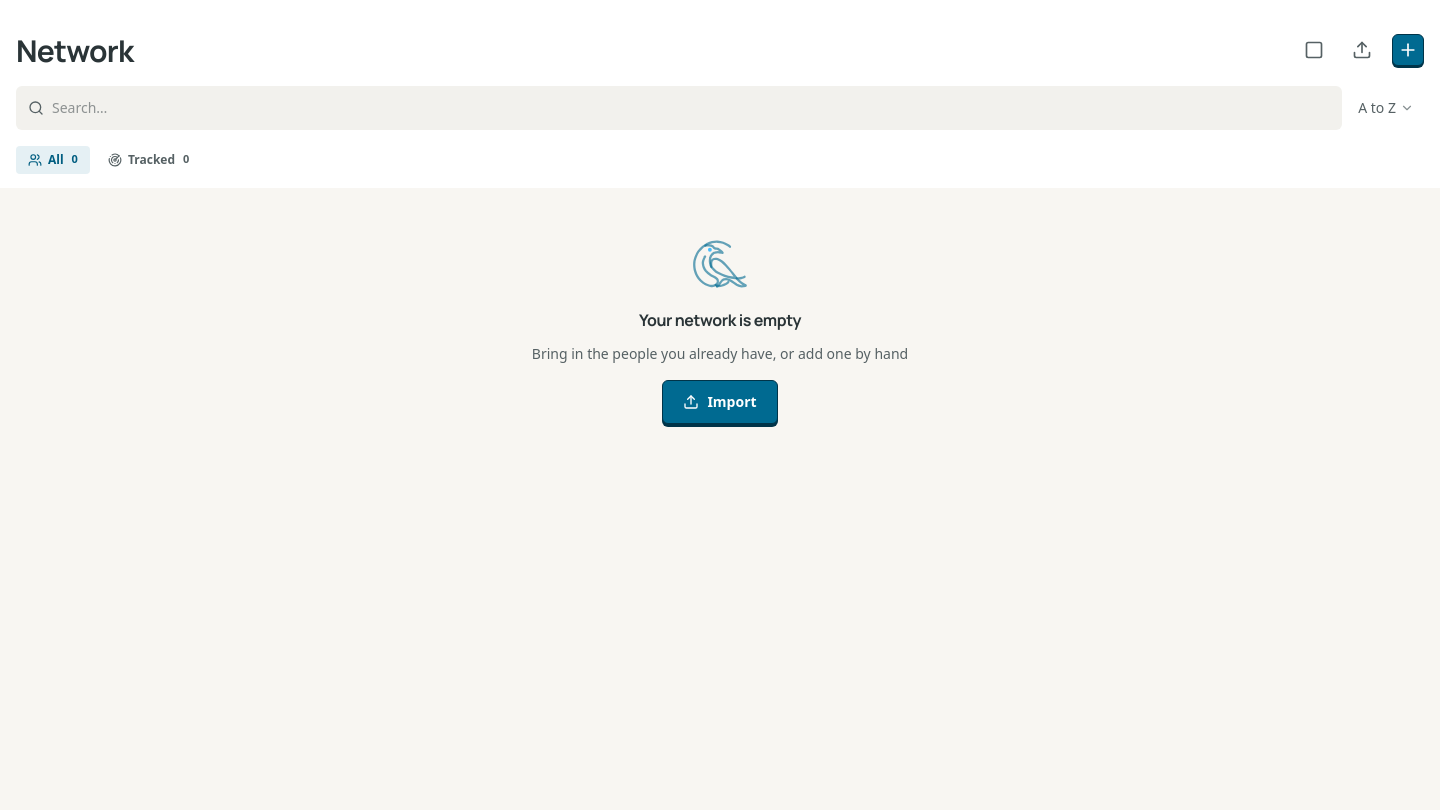
Add from text › opens from the menu or the V key, and closing with X or Escape restores focus
Click the button named "New".
click(1408, 50)  # box [1392, 34, 1424, 66]
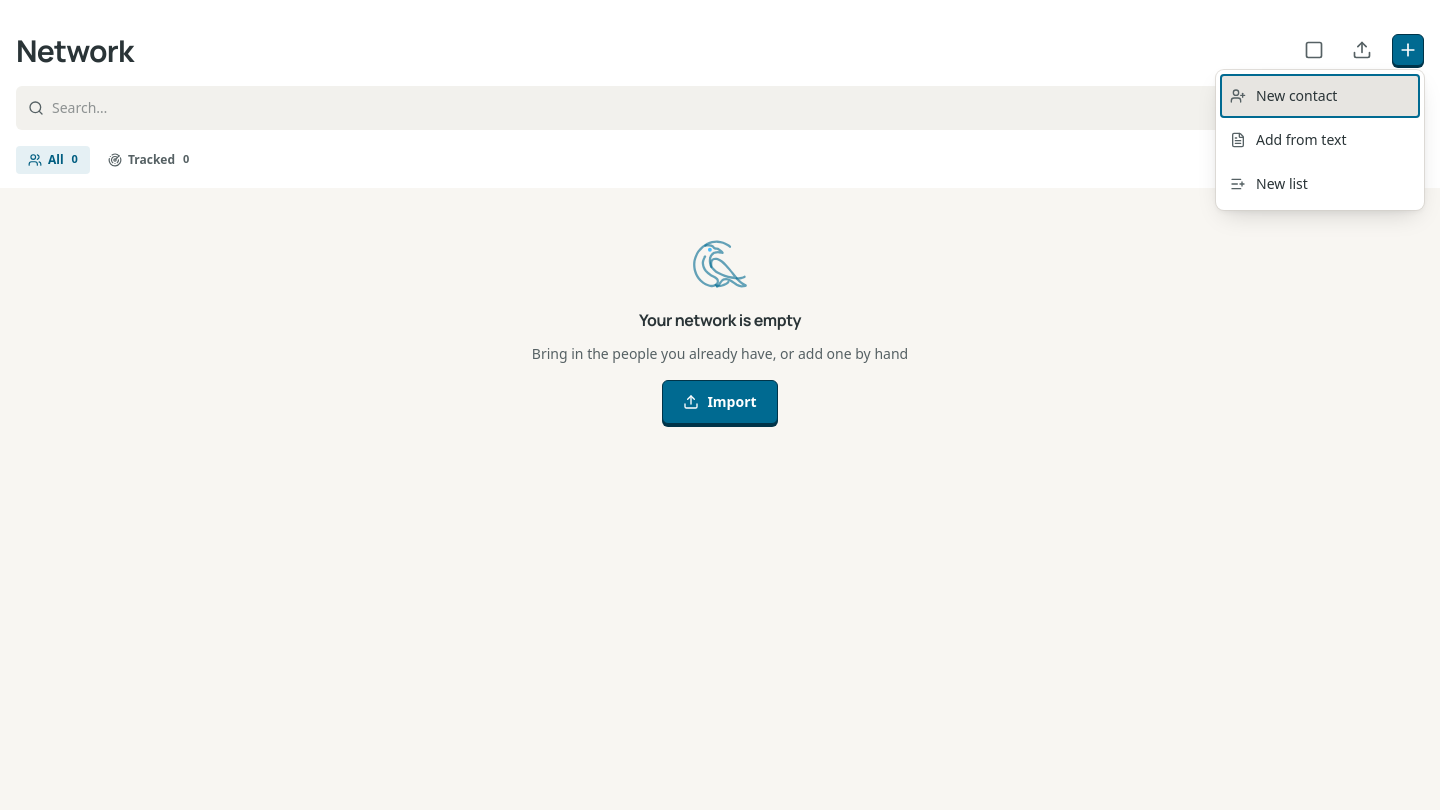
Click the menu item "Add from text".
click(1320, 140)  # box [1220, 118, 1420, 162]
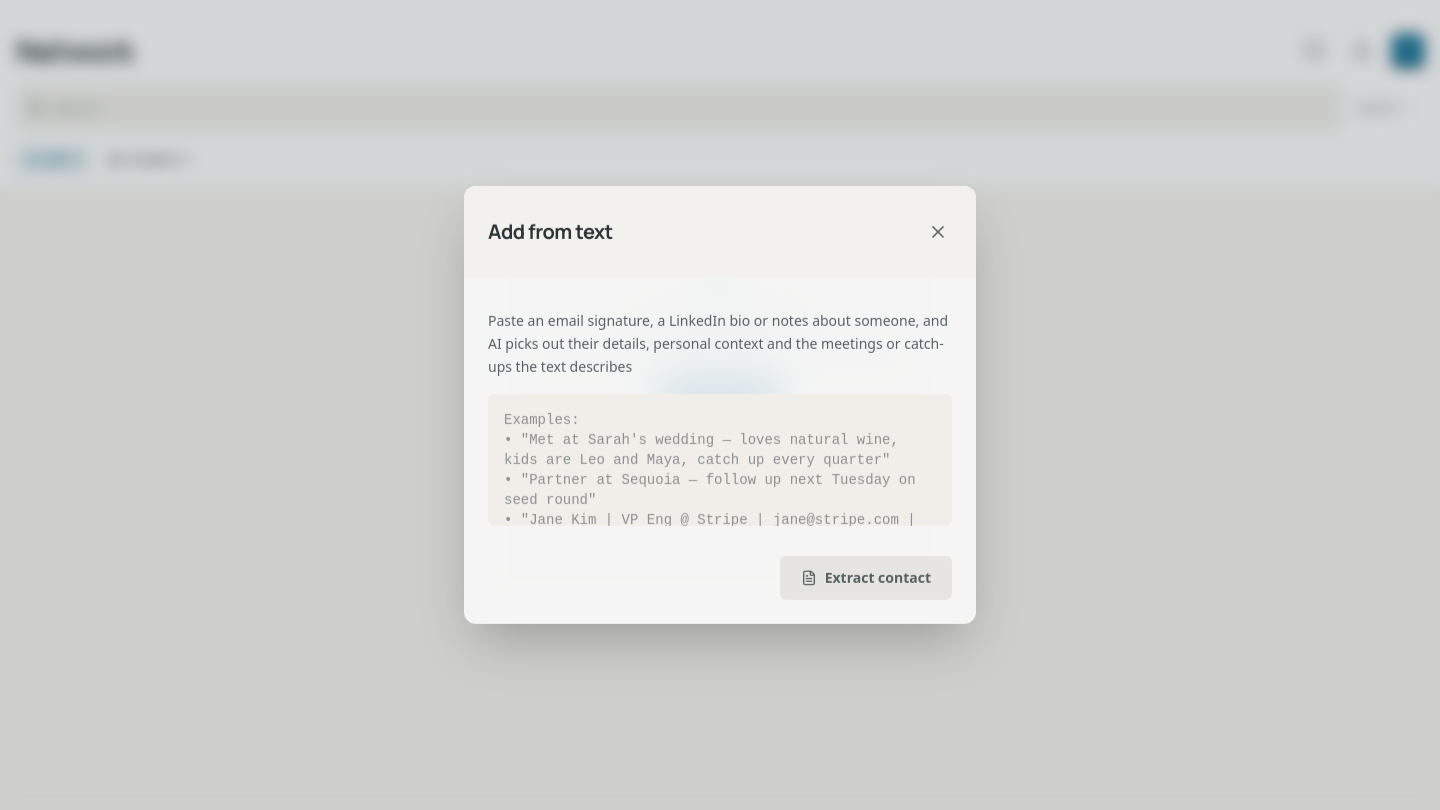
Press Escape in the dialog "Add from text", box [464, 186, 976, 624]
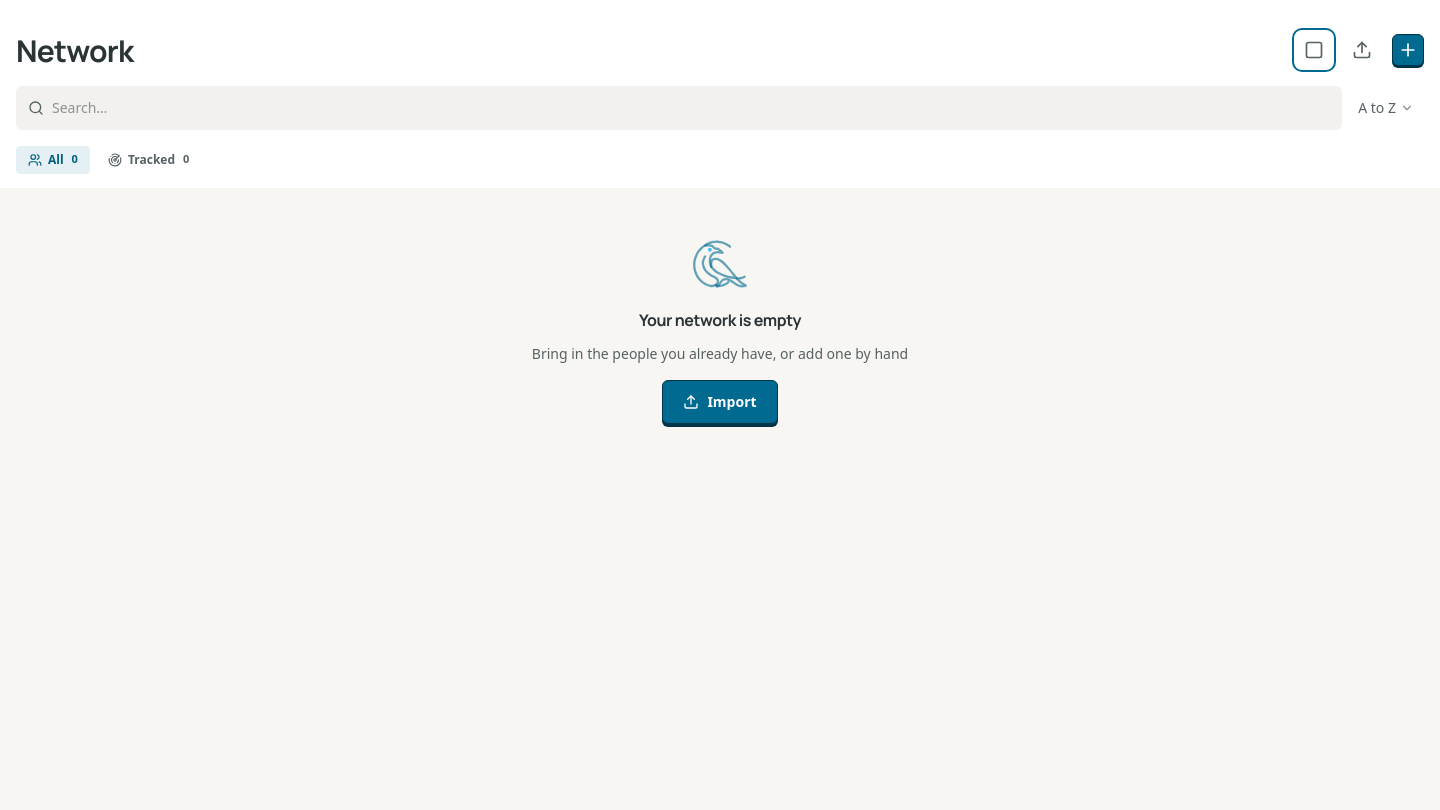
Expected: the menu item "New contact" is not shown
Expected: the heading "Add from text" is gone
Press v in the button named "Select", box [1296, 32, 1332, 68]
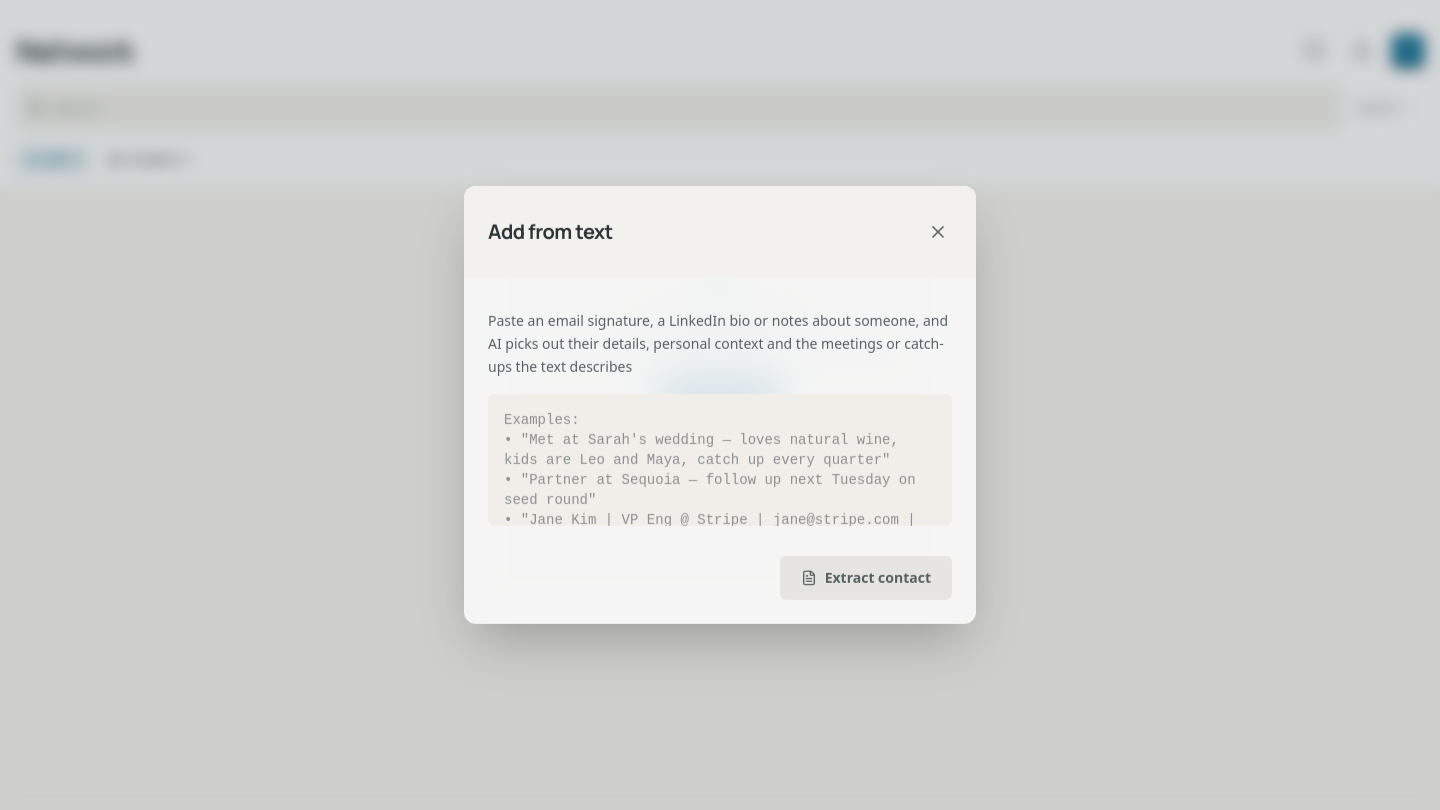
Click the button named "Close dialog".
click(938, 232)  # box [916, 210, 960, 254]
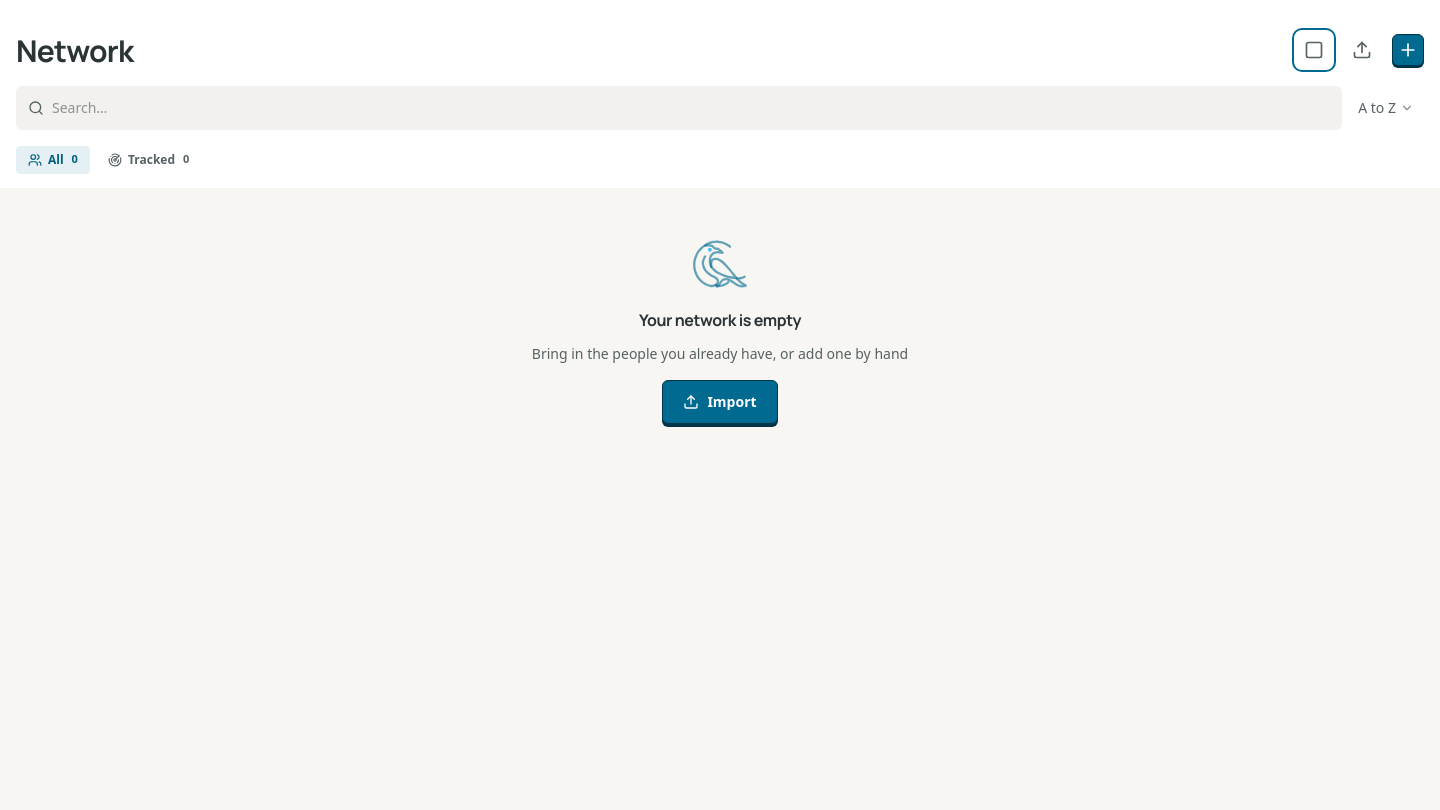
Expected: the heading "Add from text" is gone
